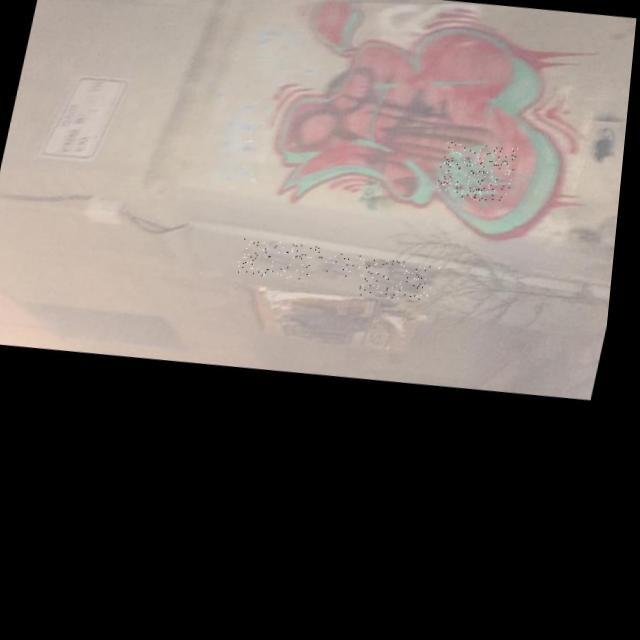-: (437, 142, 522, 208), (364, 258, 446, 306), (240, 238, 325, 284), (315, 252, 374, 282)
